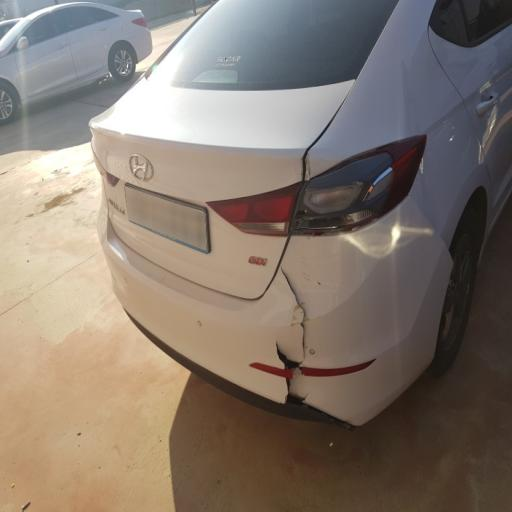broken: (248, 230, 352, 448)
